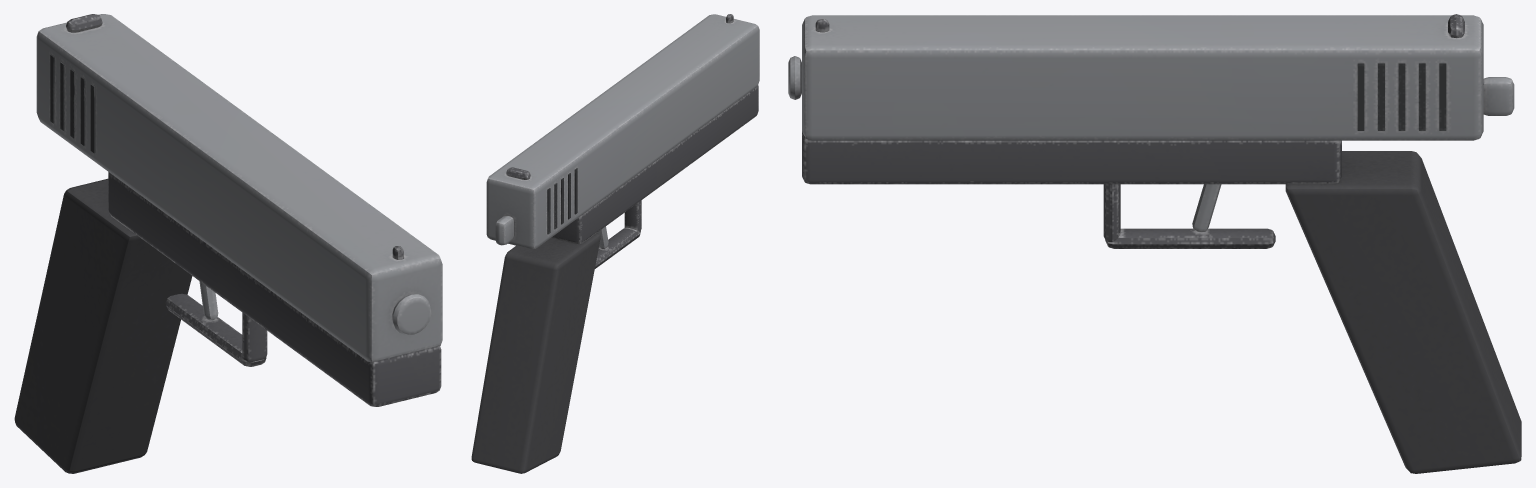
Rendered from elite.fbx.
3 renders of one model, left to right at view 1: azimuth 30°, elevation 25°; view 2: azimuth 150°, elevation 25°; view 3: azimuth 270°, elevation 25°, orthographic. The views are drawn at different scales.
Parts seen in each view (by area): view 1: elite; view 2: elite; view 3: elite.
Boxes of the visible parts, bbox=[...] form: elite: bbox=[14, 14, 442, 473]; elite: bbox=[471, 14, 759, 473]; elite: bbox=[788, 14, 1521, 473].
Bounding box in the file's own units: 0.028 × 0.1417 × 0.2151.
